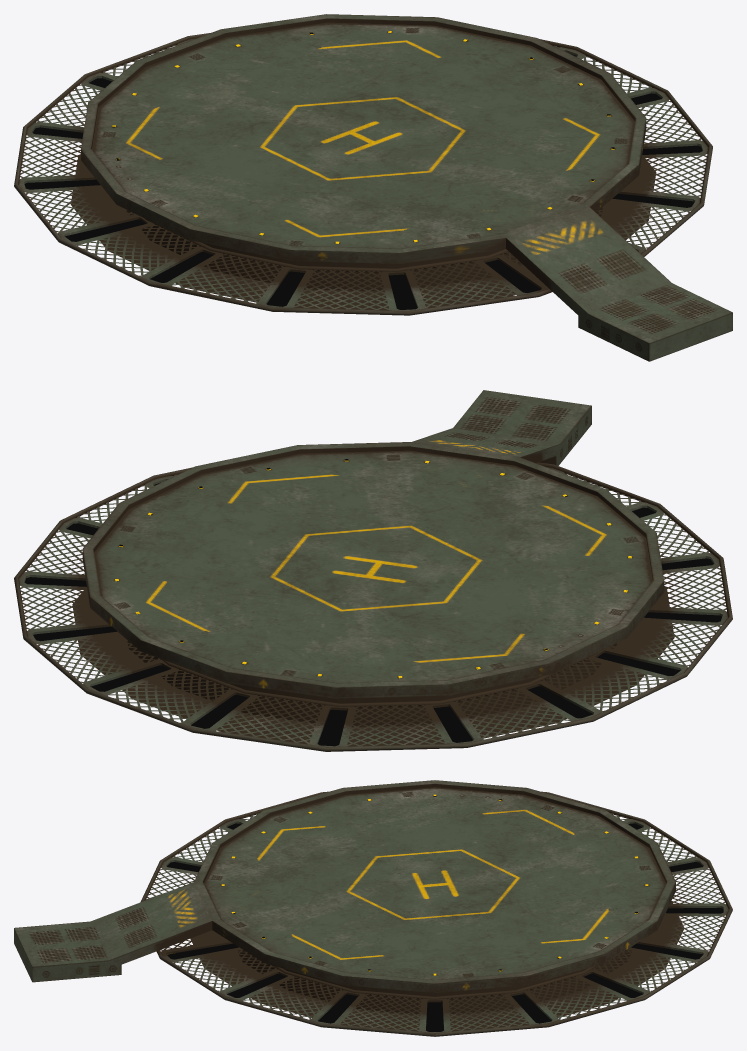
Rendered from heliport.glb.
3 views of the same model, one above another, from view 1: azimuth 30°, elevation 25°; view 2: azimuth 150°, elevation 25°; view 3: azimuth 270°, elevation 25° (orthographic). The views are drawn at different scales.
Visible parts, largest first — view 1: Object_5, Object_2, Object_4; view 2: Object_5, Object_2, Object_4; view 3: Object_5, Object_2, Object_4.
Part boxes in pixels (box(x1,y1,x2,y2)): Object_5: box(14, 14, 732, 361); Object_2: box(19, 38, 708, 310); Object_4: box(24, 54, 702, 309); Object_5: box(14, 390, 732, 751); Object_2: box(19, 466, 727, 746); Object_4: box(25, 482, 721, 746); Object_5: box(14, 780, 732, 1036); Object_2: box(146, 813, 728, 1032); Object_4: box(167, 823, 723, 1031).
Size of the model in its own units: 3020 by 259 by 3644.
Materials: 3 (3 with a texture image).
